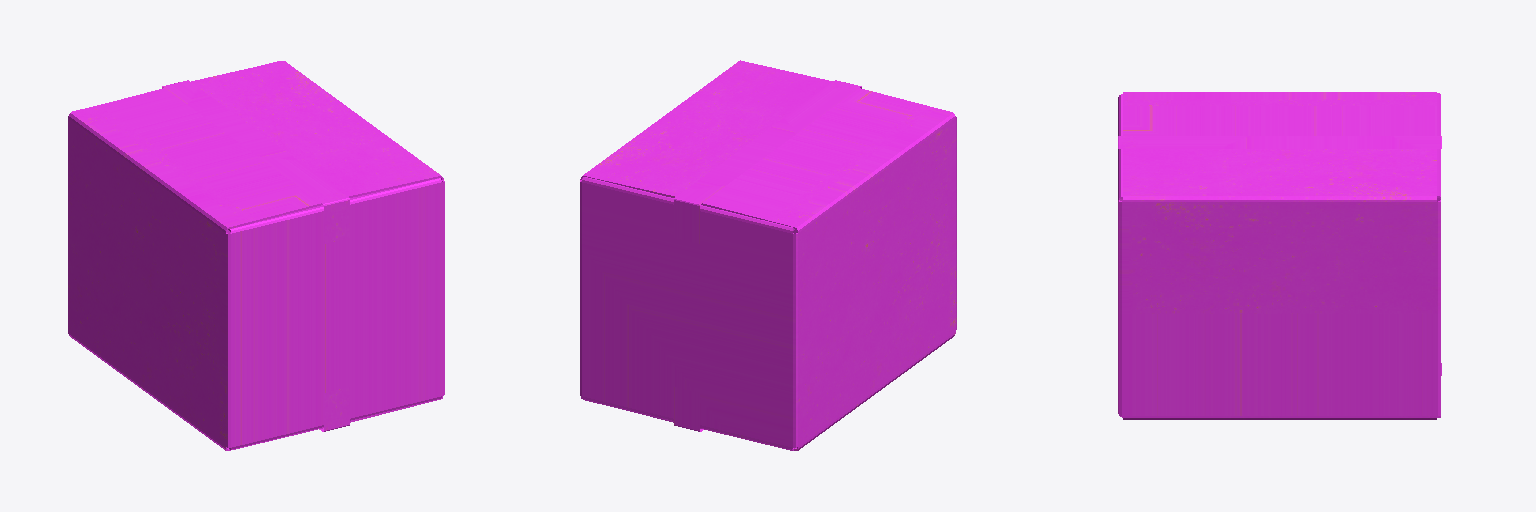
The picture shows the model from 3 angles: view 1: azimuth 30°, elevation 25°; view 2: azimuth 150°, elevation 25°; view 3: azimuth 270°, elevation 25°; orthographic projection.
Parts seen in each view (by area): view 1: Object_10, Object_2; view 2: Object_10, Object_2; view 3: Object_10, Object_2.
Part boxes in pixels (x1,y1,x2,y2): Object_10: (68, 61, 444, 450); Object_2: (162, 80, 349, 243); Object_10: (580, 60, 956, 450); Object_2: (674, 80, 861, 243); Object_10: (1118, 92, 1441, 419); Object_2: (1118, 136, 1441, 148).
Size of the model in its own units: 0.416 by 0.4159 by 0.5368.
Materials: 2 (1 with a texture image).